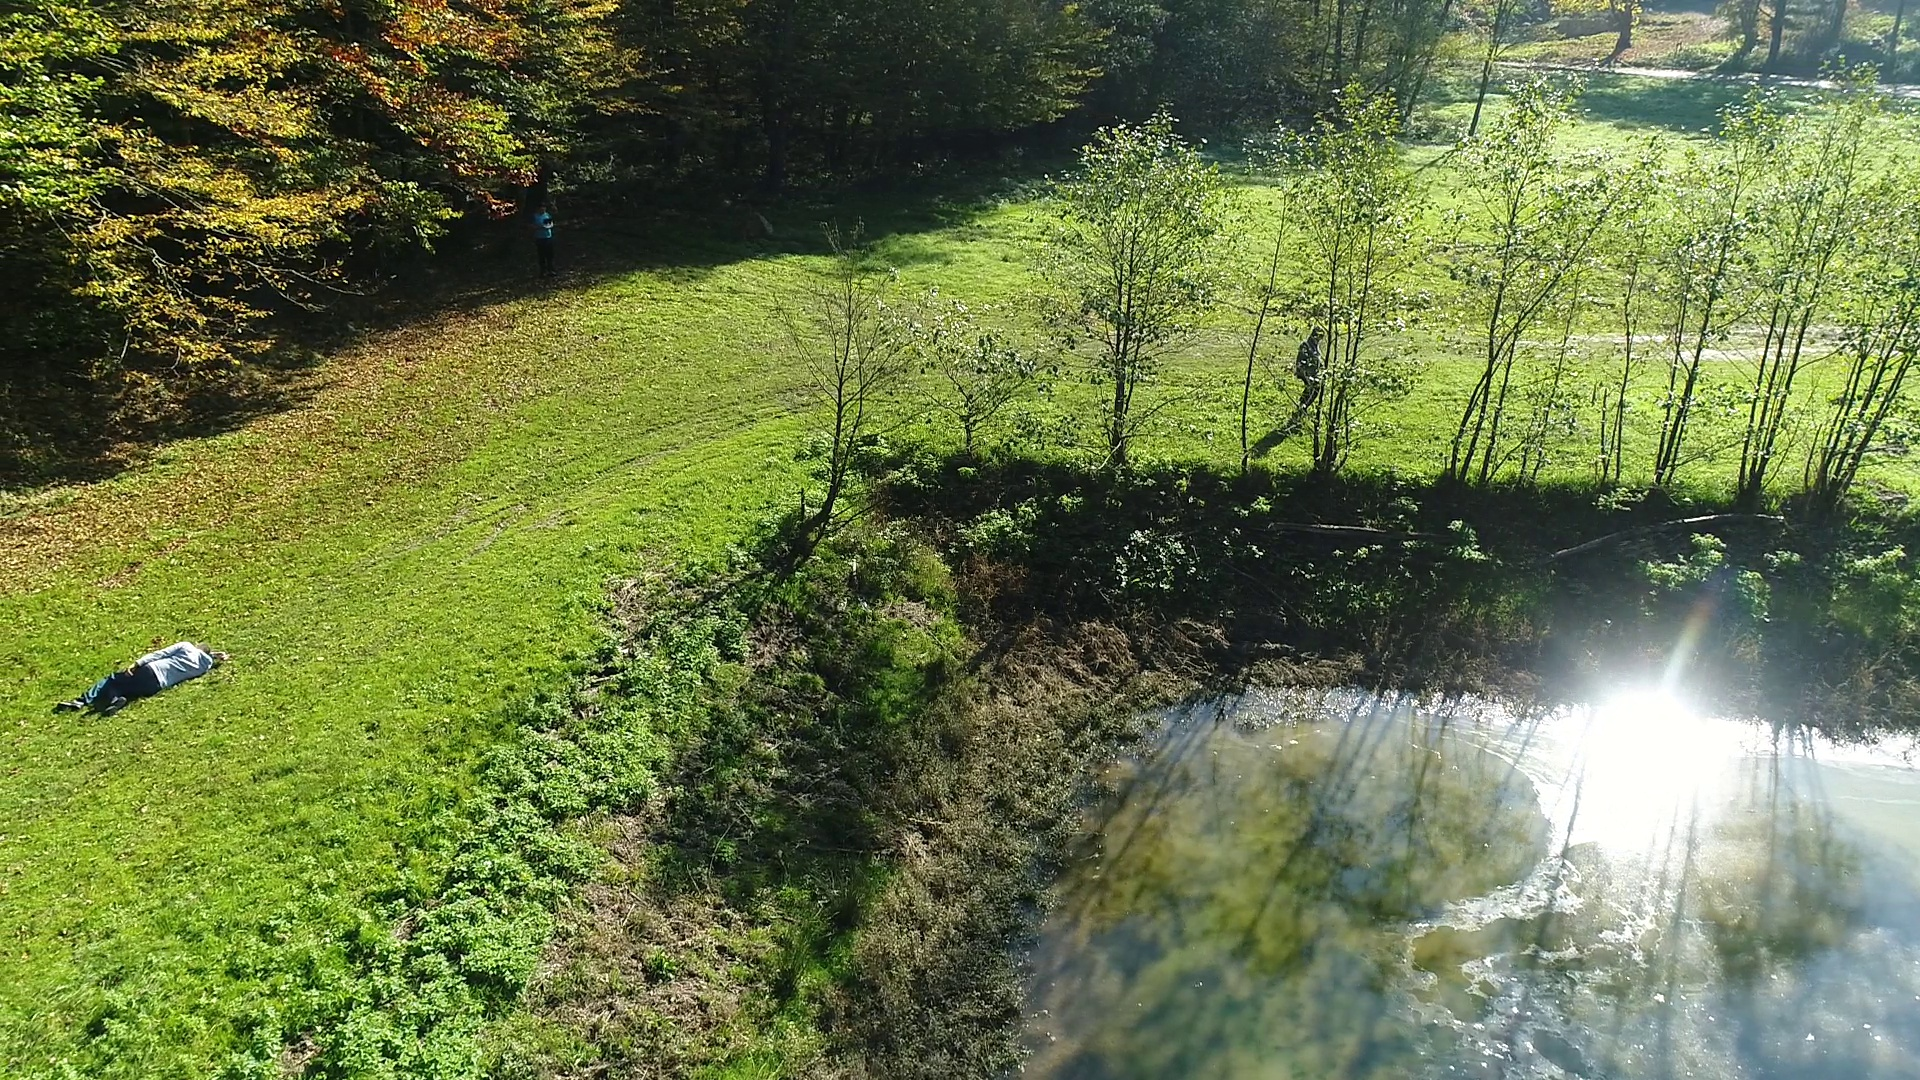person: (54, 639, 229, 718), (1290, 327, 1325, 428), (533, 204, 559, 277)
